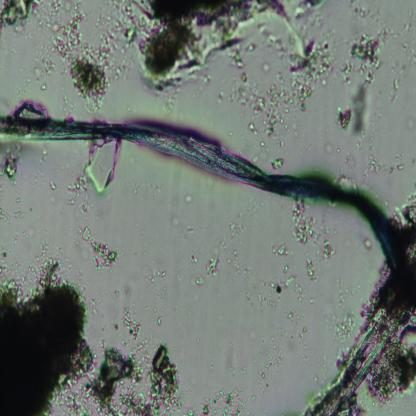Background material: (110, 0, 312, 92), (0, 255, 92, 414), (84, 305, 184, 415), (248, 29, 336, 137), (46, 8, 119, 112), (338, 22, 384, 144), (250, 314, 302, 382), (258, 239, 305, 312), (387, 18, 416, 102), (217, 206, 252, 275), (0, 1, 64, 38), (84, 138, 121, 197), (187, 382, 253, 415), (81, 226, 121, 272), (22, 42, 53, 91), (288, 197, 317, 244), (190, 248, 218, 288), (65, 176, 94, 214), (0, 139, 24, 182), (0, 195, 29, 229), (149, 262, 173, 300), (318, 142, 355, 166), (213, 79, 248, 104), (333, 309, 356, 344), (348, 2, 379, 26), (364, 152, 388, 177), (318, 236, 338, 261), (304, 251, 318, 282), (400, 113, 416, 132), (270, 155, 287, 171), (182, 185, 193, 205), (364, 234, 374, 251), (48, 180, 57, 190), (172, 221, 180, 230)
Cellulose filter fibre: (304, 251, 416, 414)
Diatom: (0, 112, 403, 278)
